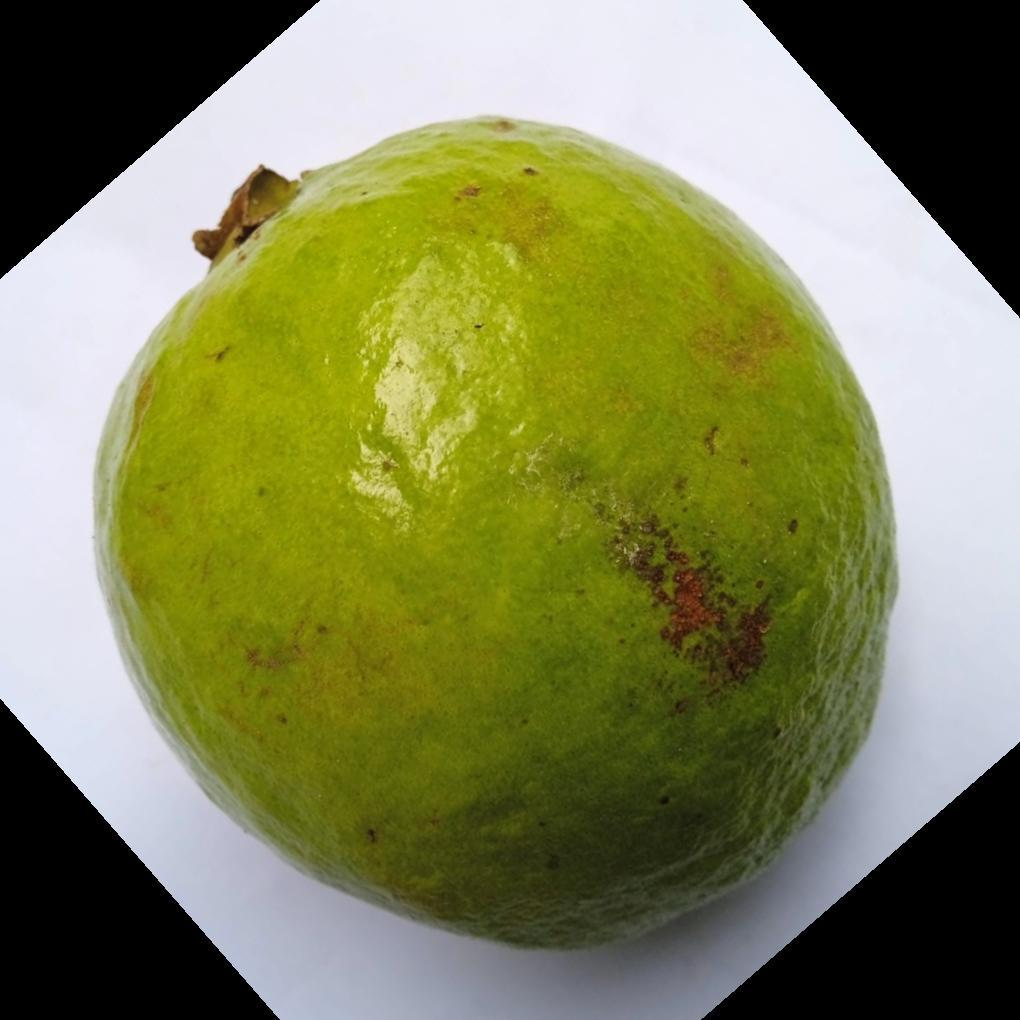FreshGuava: (90, 117, 900, 954)
